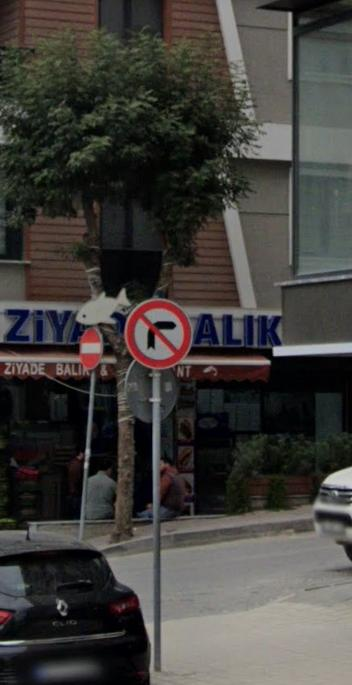rightturnsareforbidden: (124, 296, 194, 372)
